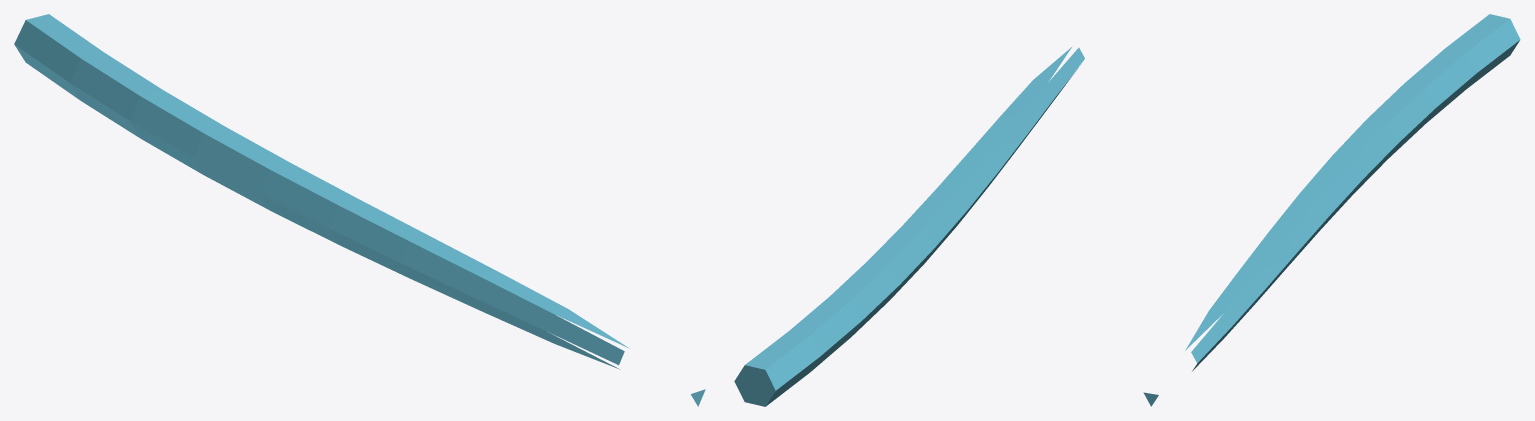
Rendered from blade-katana.lod.glb.
The picture shows the model from 3 angles, left to right: view 1: azimuth 30°, elevation 25°; view 2: azimuth 150°, elevation 25°; view 3: azimuth 330°, elevation 25°; orthographic projection. The views are drawn at different scales.
Visible parts, largest first — view 1: m; view 2: m; view 3: m.
Boxes of the visible parts, x1,y1,x2,y2 form: m: (14,14,705,406); m: (734,46,1084,406); m: (1143,14,1520,406).
Bounding box in the file's own units: 0.0374 × 0.0095 × 0.2156.
